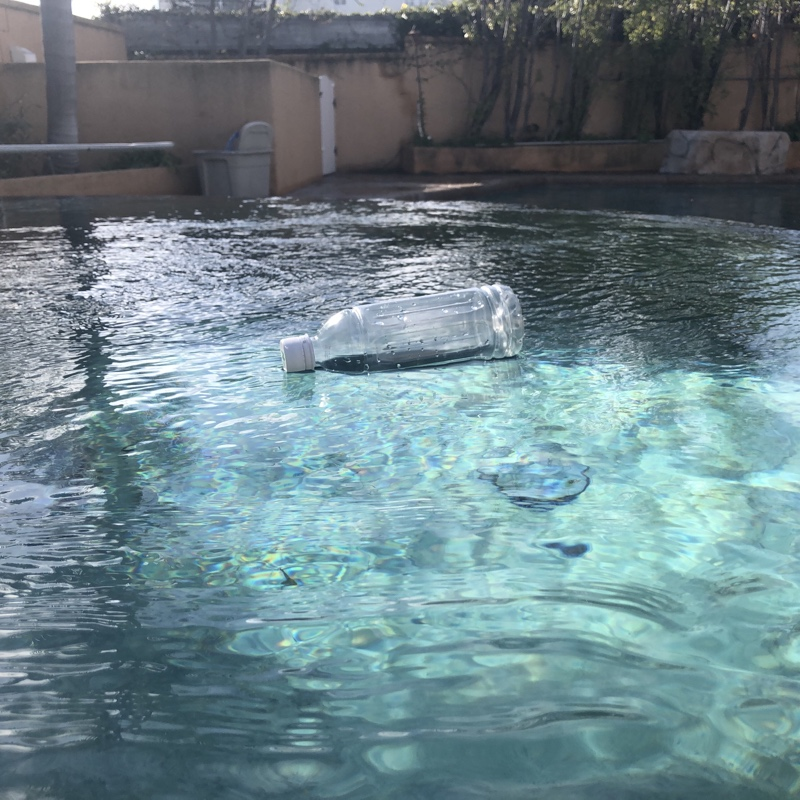Plastic Bottle: (277, 278, 525, 378)
